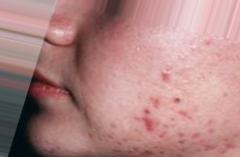Acne: (109, 67, 225, 155)
